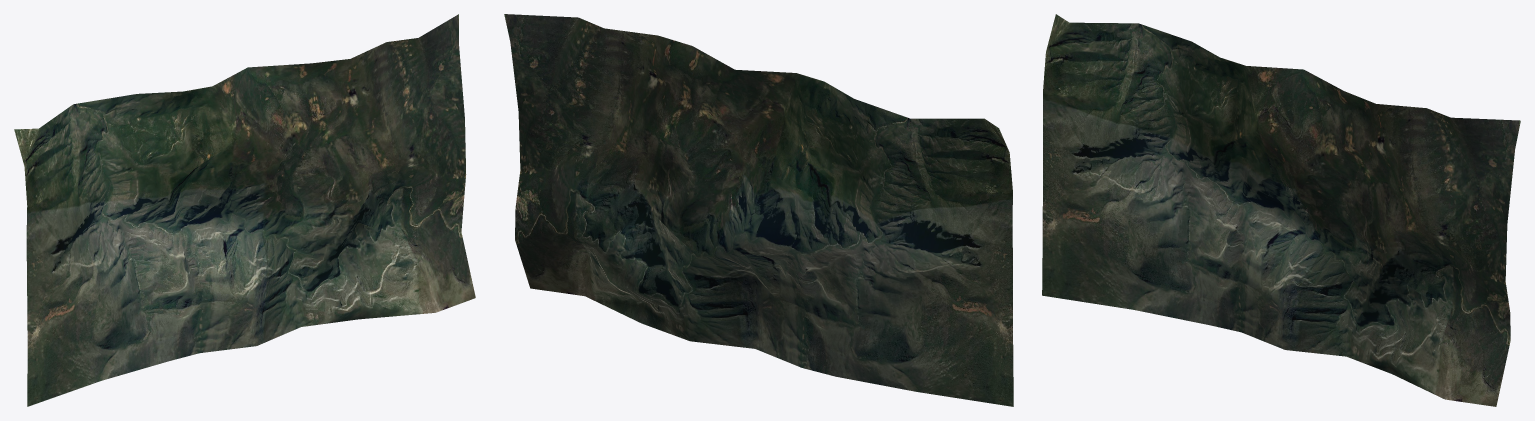
File: test_landscape2.obj
3 views of the same model, side by side, from view 1: azimuth 30°, elevation 25°; view 2: azimuth 150°, elevation 25°; view 3: azimuth 330°, elevation 25° (orthographic). The views are drawn at different scales.
Parts seen in each view (by area): view 1: EXPORT_GOOGLE_SAT_WM; view 2: EXPORT_GOOGLE_SAT_WM; view 3: EXPORT_GOOGLE_SAT_WM.
Part boxes in pixels (<box>): EXPORT_GOOGLE_SAT_WM: <box>14,14,475,406</box>; EXPORT_GOOGLE_SAT_WM: <box>504,14,1013,406</box>; EXPORT_GOOGLE_SAT_WM: <box>1042,14,1520,406</box>.
Size of the model in its own units: 17281 by 9821 by 2068.
